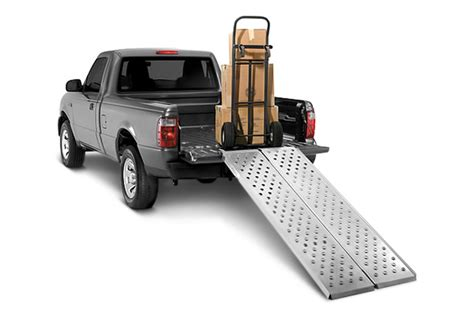Yard Ramp: (222, 146, 419, 302)
